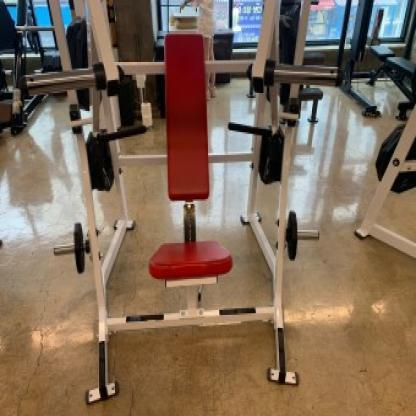seated dip machine: (8, 0, 337, 416)
